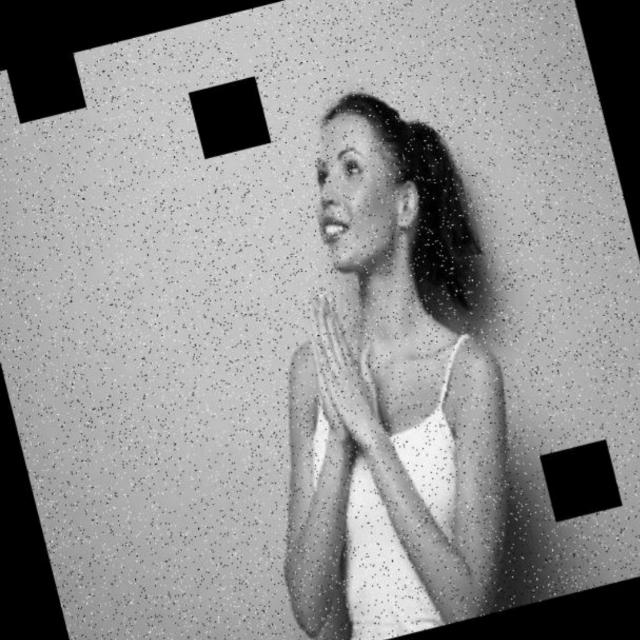Happy: (305, 93, 428, 292)
